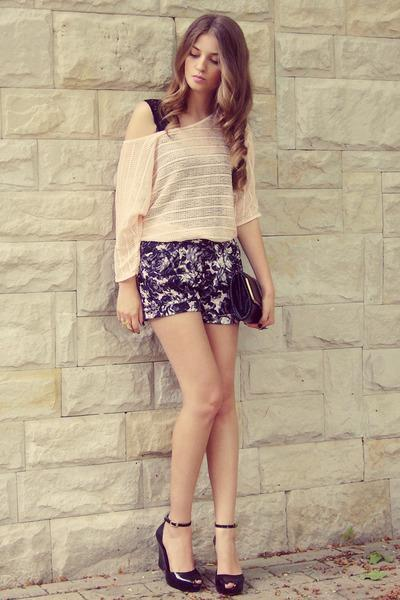bag: (209, 261, 268, 330)
jacket: (114, 131, 268, 281)
shoe: (159, 564, 252, 599)
shorts: (132, 234, 249, 323)
